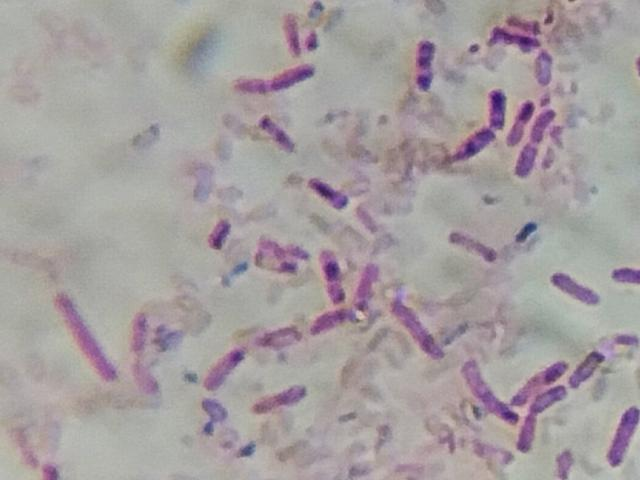E. coli: (46, 289, 123, 381), (463, 352, 512, 429), (231, 62, 323, 91), (521, 390, 566, 448), (602, 400, 638, 471), (443, 226, 505, 266), (549, 267, 600, 312), (509, 345, 558, 390), (198, 345, 248, 389), (135, 313, 162, 392), (395, 297, 431, 353), (192, 213, 236, 253), (251, 387, 311, 415), (358, 255, 382, 322), (493, 20, 546, 49), (316, 246, 346, 295), (416, 36, 439, 97), (573, 347, 604, 392), (311, 173, 350, 208), (305, 302, 344, 336), (463, 126, 502, 160), (509, 93, 532, 147), (255, 323, 304, 347), (276, 10, 306, 49), (608, 259, 640, 293), (258, 112, 289, 147), (531, 49, 558, 87), (488, 86, 508, 128), (536, 105, 557, 144), (521, 146, 542, 174)
